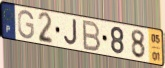2: (36, 11, 54, 46)
8: (109, 25, 126, 56), (130, 29, 147, 60)
B: (82, 19, 102, 53)
G: (17, 9, 36, 41)
J: (63, 18, 79, 48)
